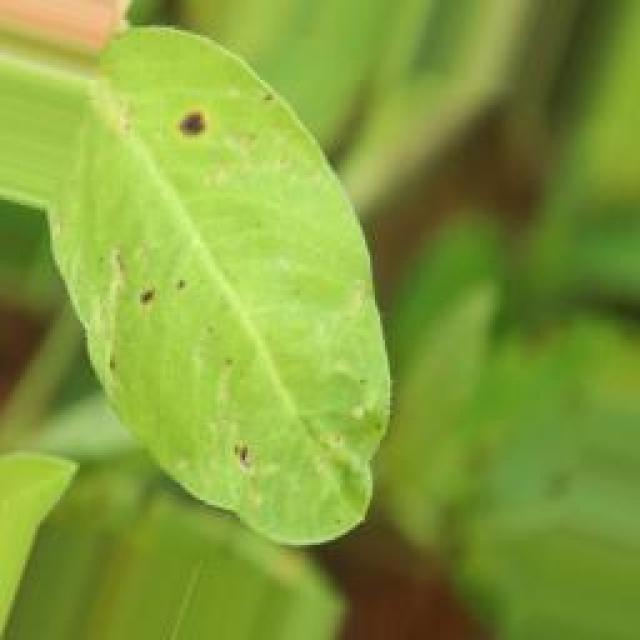Sigatoka: (217, 372, 301, 518), (104, 224, 192, 345), (177, 80, 270, 183)
